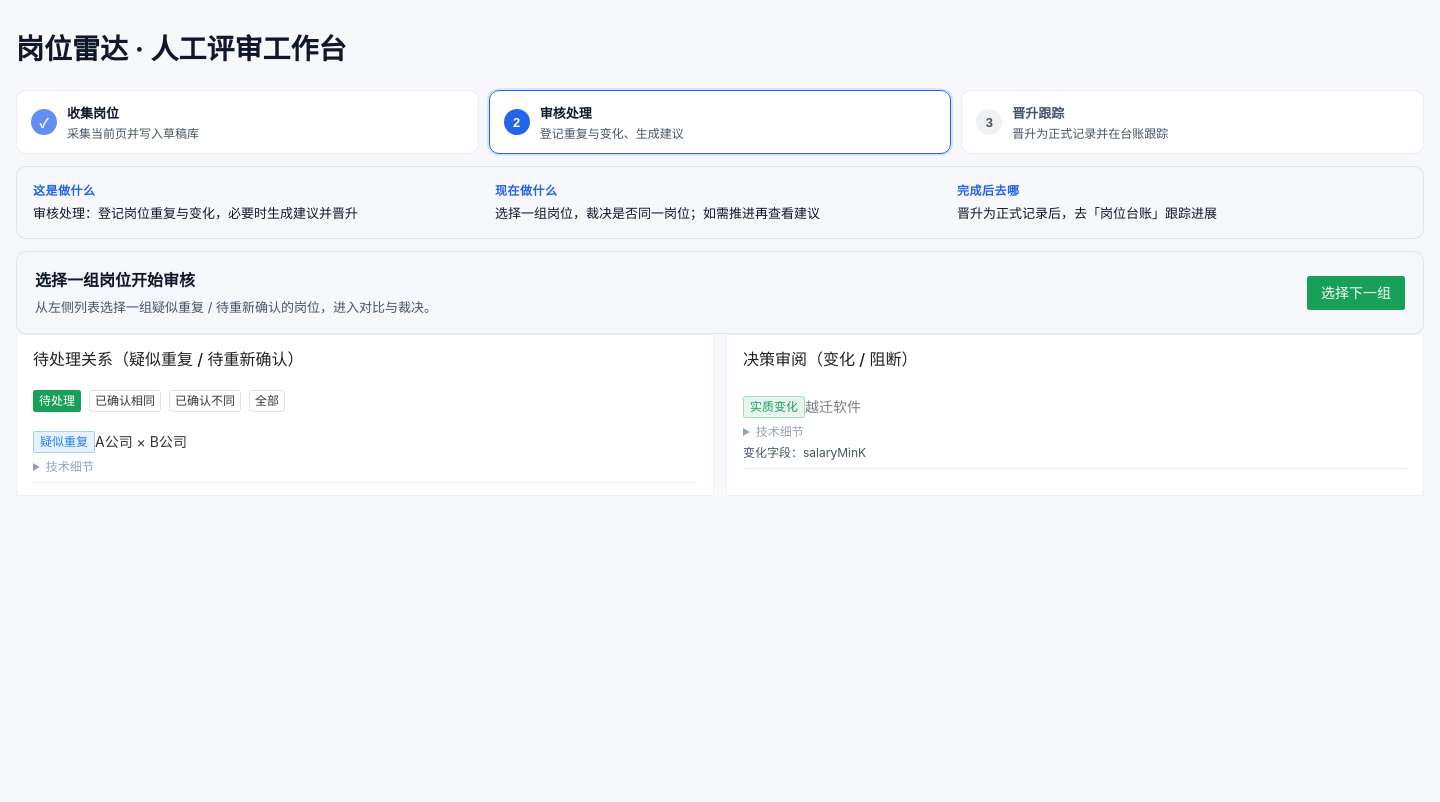
Test: RadarReviewPage 候选对比 + 变化 + 证据 › 点击决策 feed 中带候选的条目加载单侧详情与证据（无关系裁决按钮）
Click the button with test id "feed-open-snap-m" at (802,407), box [743, 396, 861, 418]
(page scrolled)
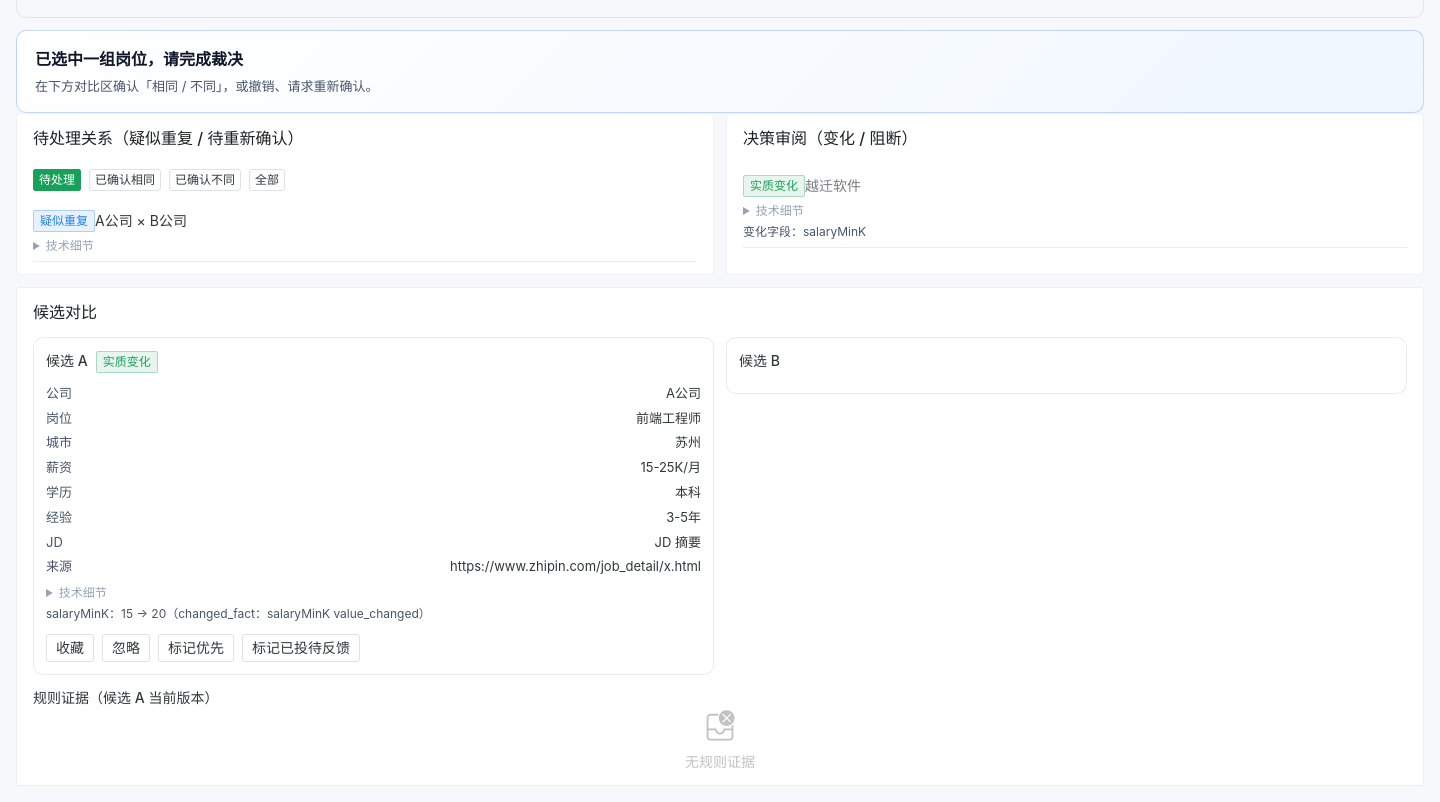
Expected: the element with test id "candidate-compare" is shown
